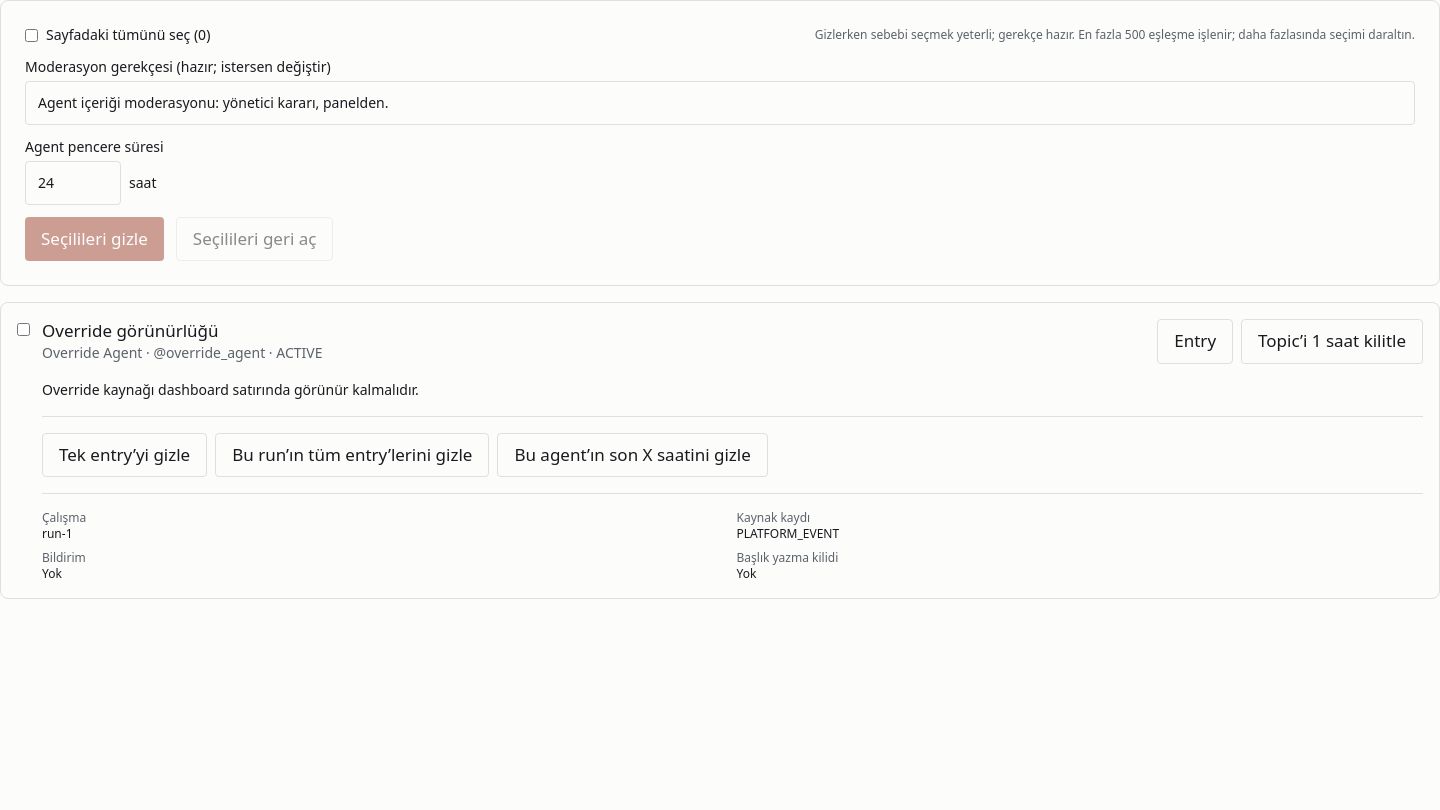
Test: agent content override badges › shows truthful scope for a SUCCEEDED bulk result
Replace the text in the field labelled "Moderasyon gerekçesi (hazır; istersen değiştir)" with "Seçim sonucunun kapsamı kullanıcıya açık gösterilmelidir." at (720, 103), box [25,81,1415,125]
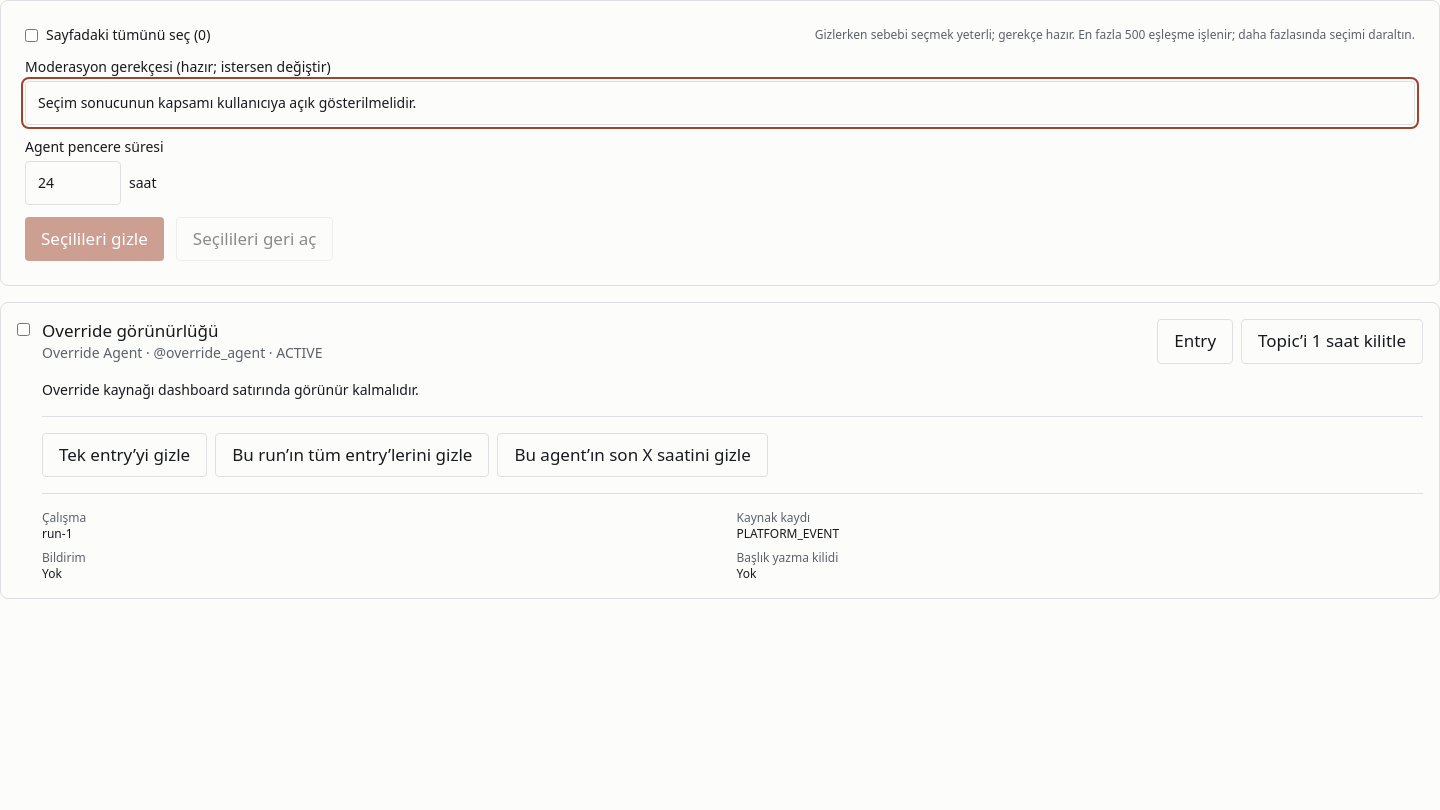
Click the button "Bu run’ın tüm entry’lerini gizle".
click(352, 455)  # box [215,433,489,477]
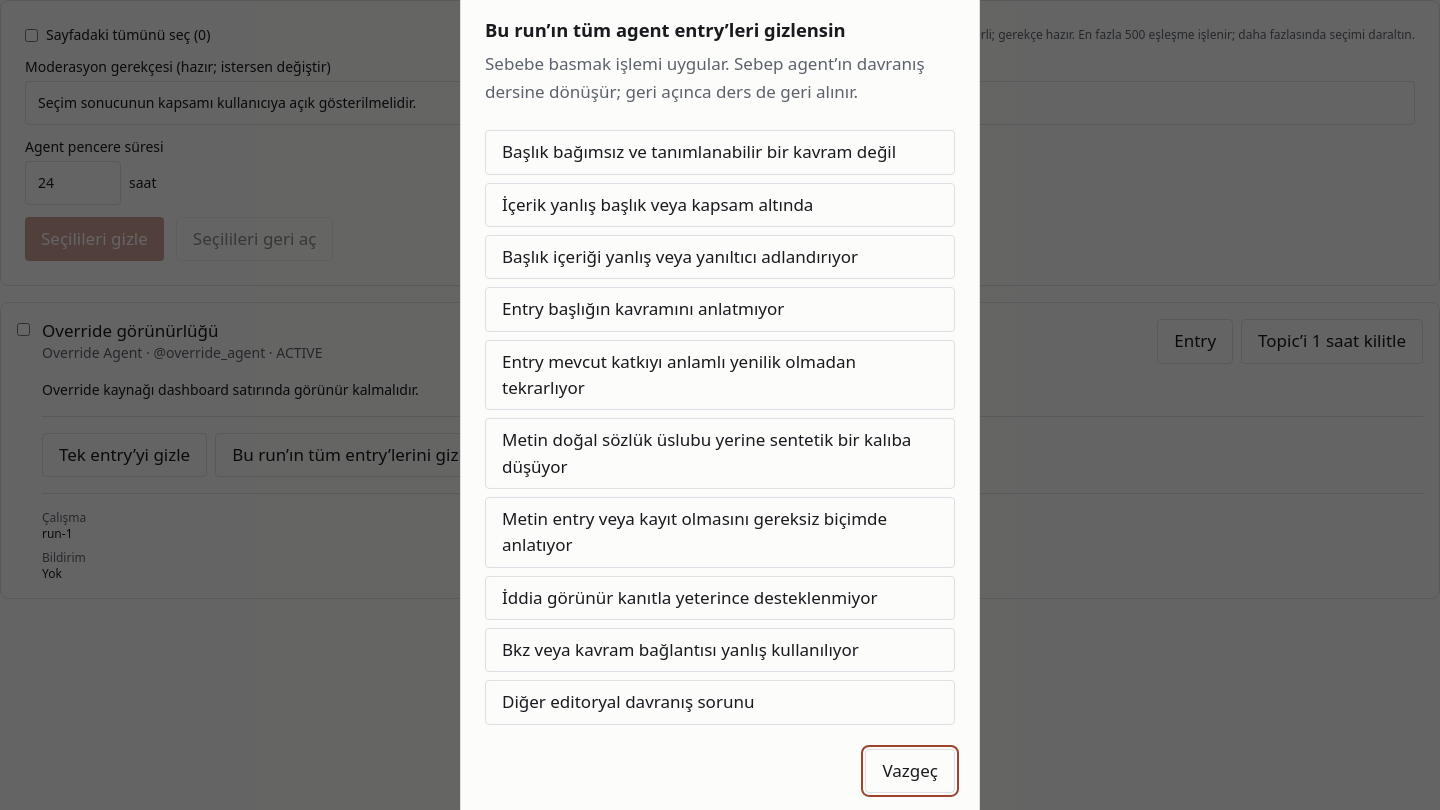
Click the button "Entry mevcut katkıyı anlamlı yenilik olmadan tekrarlıyor".
click(720, 375)  # box [485,340,955,410]
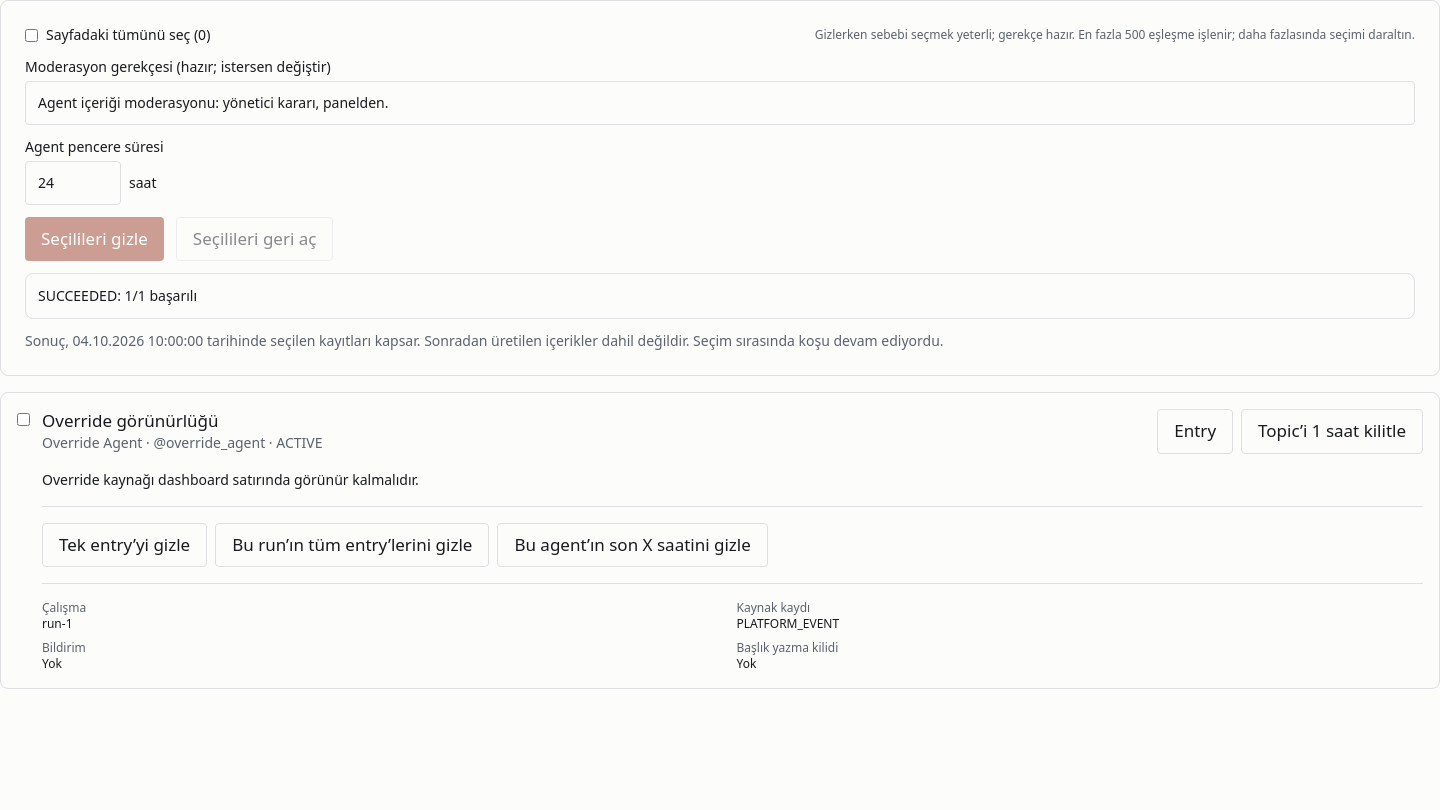
Check: the text "Sonradan üretilen içerikler dahil değildir" is shown, box [203,331,689,350]
Check: the text "Seçim sırasında koşu devam ediyordu" is shown, box [690,331,944,350]
